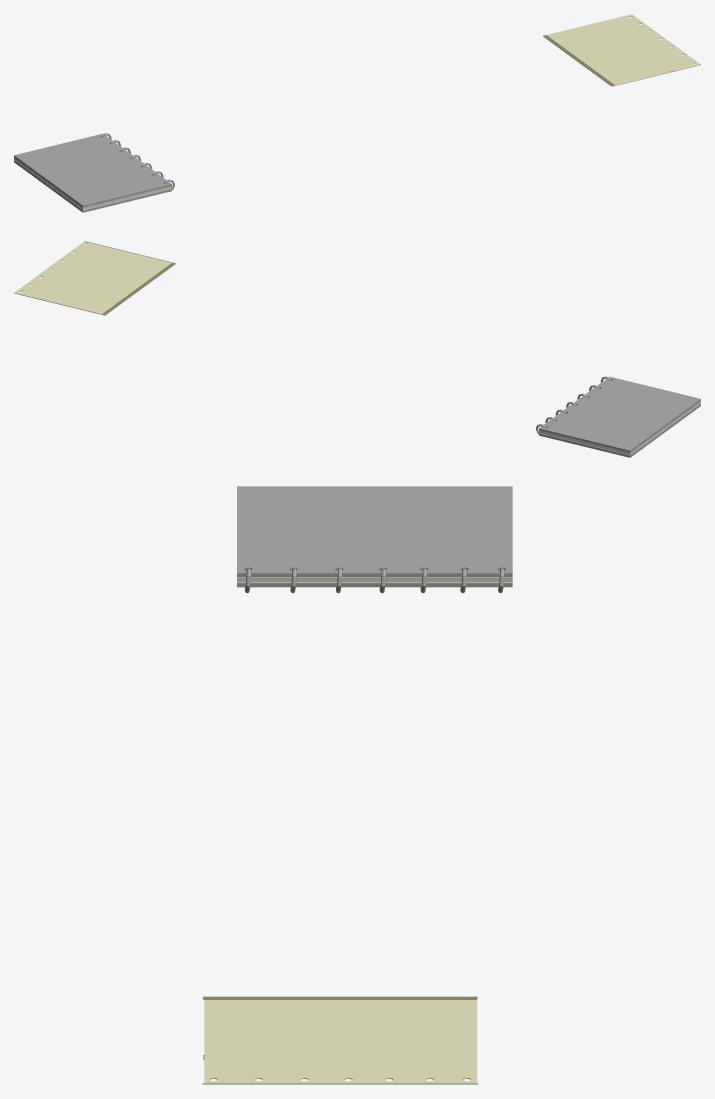
The model's file is 手册空.fbx.
3 renders of one model, top to bottom at view 1: azimuth 30°, elevation 25°; view 2: azimuth 150°, elevation 25°; view 3: azimuth 270°, elevation 25°, orthographic. The views are drawn at different scales.
Visible parts, largest first — view 1: polySurface2, polySurface10, polySurface1; view 2: polySurface2, polySurface10, polySurface1; view 3: polySurface2, polySurface10, polySurface1.
Boxes of the visible parts, <box> form: polySurface2: <box>14,133,171,207</box>; polySurface10: <box>543,14,700,86</box>; polySurface1: <box>14,160,171,212</box>; polySurface2: <box>539,376,700,452</box>; polySurface10: <box>14,241,175,315</box>; polySurface1: <box>539,404,700,457</box>; polySurface2: <box>237,486,512,576</box>; polySurface10: <box>202,996,477,1084</box>; polySurface1: <box>237,583,512,587</box>.
Size of the model in its own units: 3.39 by 0.0645 by 0.7465.
